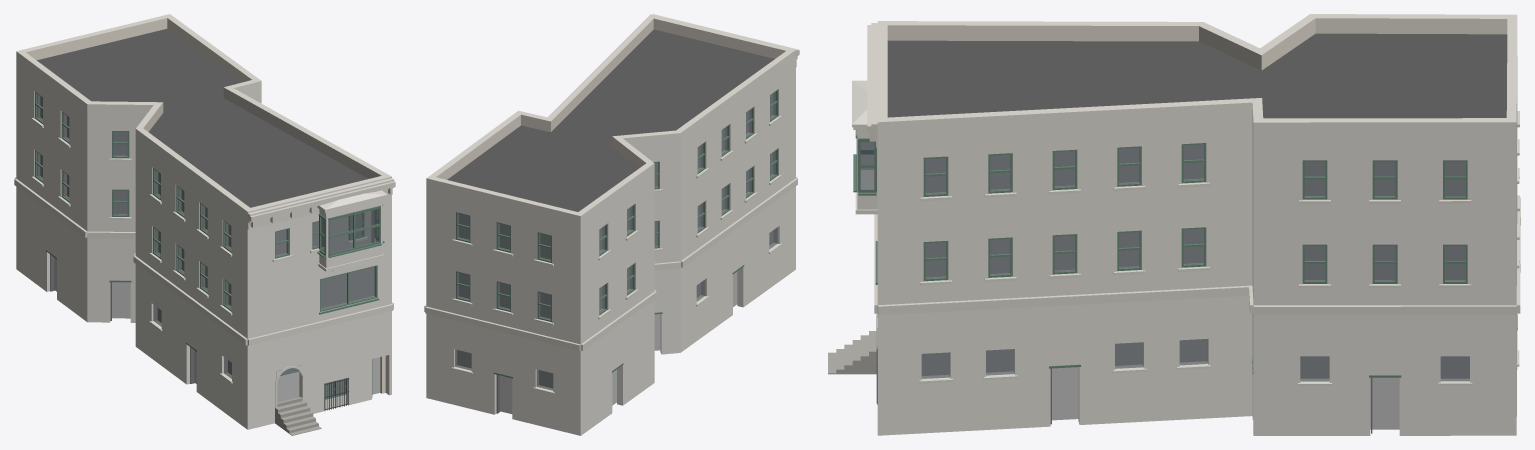
Rendered from exterior.glb.
3 renders of one model, left to right at view 1: azimuth 30°, elevation 25°; view 2: azimuth 150°, elevation 25°; view 3: azimuth 270°, elevation 25°, orthographic. The views are drawn at different scales.
Visible parts, largest first — view 1: shell, roof, trim, shadow-proxy, glazing, frames, bay-glazing-hyb, bay-windows-hyb, hyC-arches-0, storefront; view 2: shell, roof, trim, glazing, shadow-proxy, frames; view 3: shell, roof, shadow-proxy, glazing, trim, frames, bay-windows-hyb, hyC-arches-0, bay-glazing-hyb.
Boxes of the visible parts, <box> form: shell: <box>16,14,391,429</box>; roof: <box>37,28,367,207</box>; trim: <box>14,118,395,383</box>; shadow-proxy: <box>40,96,380,402</box>; glazing: <box>37,94,375,397</box>; frames: <box>35,92,377,311</box>; bay-glazing-hyb: <box>317,204,384,257</box>; bay-windows-hyb: <box>317,190,387,271</box>; hyC-arches-0: <box>275,365,321,435</box>; storefront: <box>46,249,372,410</box>; shell: <box>426,14,795,435</box>; roof: <box>447,29,774,211</box>; trim: <box>424,14,799,394</box>; glazing: <box>455,92,777,390</box>; shadow-proxy: <box>457,94,773,413</box>; frames: <box>455,89,778,322</box>; shell: <box>877,14,1517,435</box>; roof: <box>887,33,1507,118</box>; shadow-proxy: <box>922,144,1469,429</box>; glazing: <box>921,144,1469,381</box>; trim: <box>867,23,1520,385</box>; frames: <box>923,143,1467,283</box>; bay-windows-hyb: <box>852,80,877,214</box>; hyC-arches-0: <box>828,313,877,374</box>; bay-glazing-hyb: <box>853,130,876,195</box>.
Bounding box in the file's own units: 9.02 × 11.82 × 23.68.
